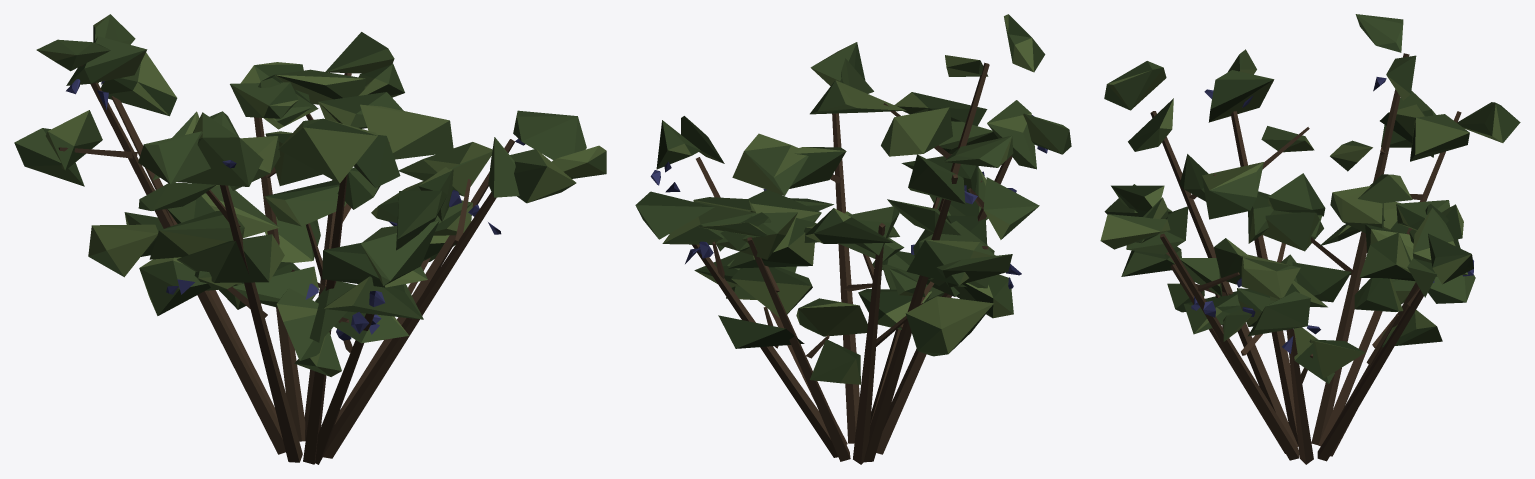
The model's file is berry-bush.glb.
3 renders of one model, left to right at view 1: azimuth 30°, elevation 25°; view 2: azimuth 150°, elevation 25°; view 3: azimuth 270°, elevation 25°, orthographic. The views are drawn at different scales.
Visible parts, largest first — view 1: berry-bush, berries; view 2: berry-bush, berries; view 3: berry-bush, berries.
Part boxes in pixels (<box>): berry-bush: <box>14,14,606,464</box>; berries: <box>66,79,525,340</box>; berry-bush: <box>635,14,1071,464</box>; berries: <box>650,115,1047,289</box>; berry-bush: <box>1100,14,1520,464</box>; berries: <box>1191,77,1473,353</box>.
Bounding box in the file's own units: 0.787 × 0.6669 × 0.7077.
